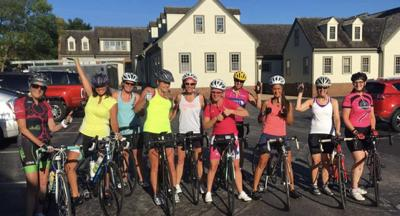With Helmet: (28, 66, 49, 102), (152, 67, 179, 93), (89, 70, 110, 101), (118, 71, 142, 95), (348, 69, 373, 91), (207, 76, 228, 102), (314, 72, 333, 99), (269, 71, 288, 97), (180, 70, 199, 93), (232, 69, 249, 88)
